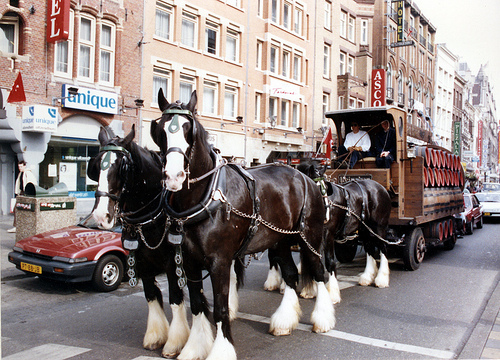horse: (151, 87, 337, 355), (89, 120, 194, 360), (296, 162, 395, 307)
